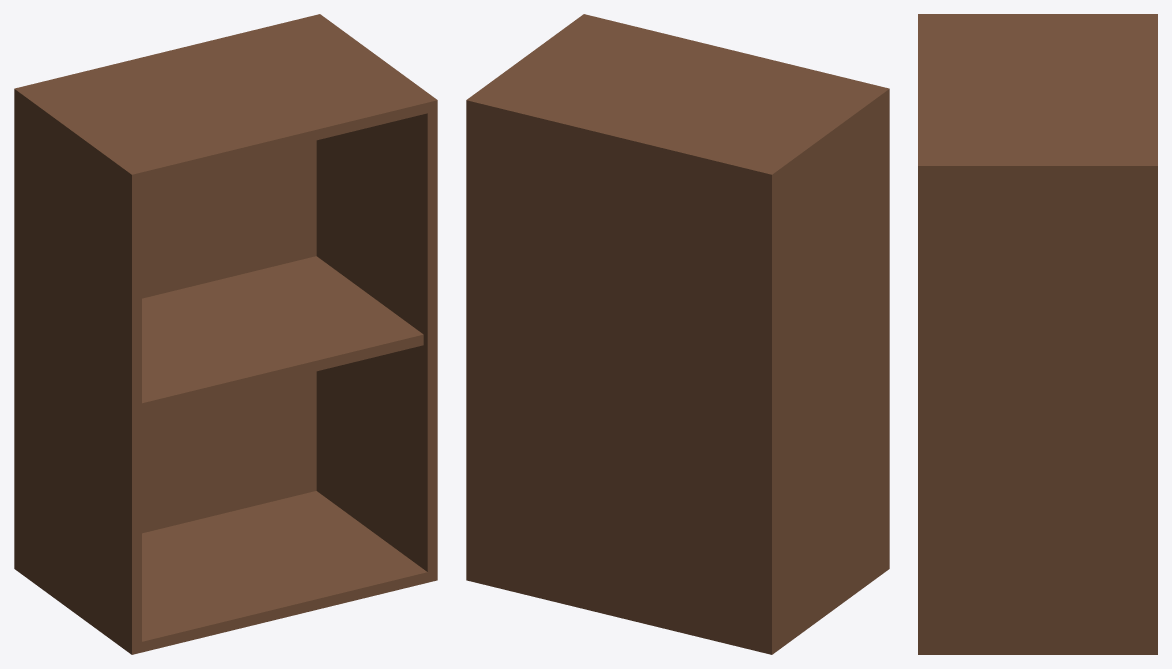
File: Kitchen1_C2_08.fbx
The picture shows the model from 3 angles, left to right: view 1: azimuth 30°, elevation 25°; view 2: azimuth 150°, elevation 25°; view 3: azimuth 270°, elevation 25°; orthographic projection.
Parts seen in each view (by area): view 1: Kitchen1_C2_08; view 2: Kitchen1_C2_08; view 3: Kitchen1_C2_08.
Boxes of the visible parts, left/top/right/bottom form: Kitchen1_C2_08: left=14, top=14, right=437, bottom=654; Kitchen1_C2_08: left=466, top=14, right=889, bottom=654; Kitchen1_C2_08: left=918, top=14, right=1157, bottom=654.
Bounding box in the file's own units: 60 × 90 × 40.
